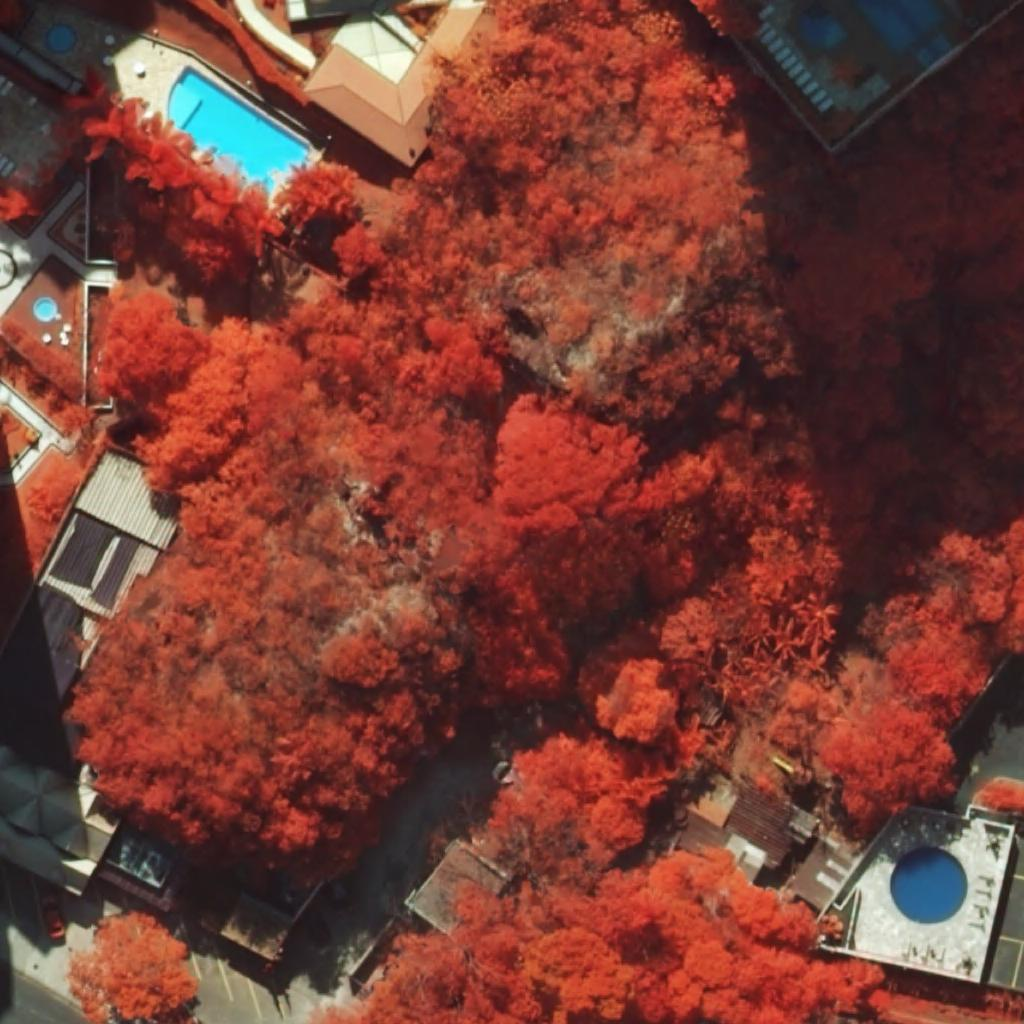pool: (167, 65, 309, 188), (889, 845, 969, 925), (855, 0, 944, 54), (47, 25, 78, 53), (36, 298, 56, 319)
